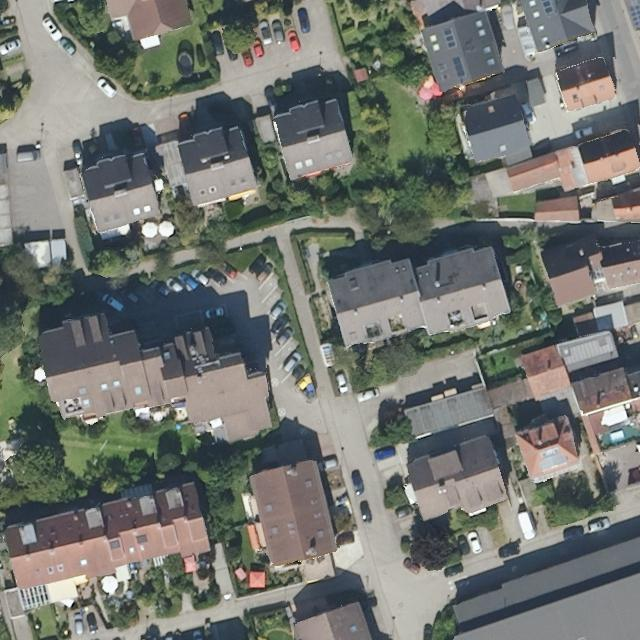PV: (563, 334, 616, 365), (450, 53, 467, 80), (440, 25, 458, 50), (627, 2, 639, 32)
